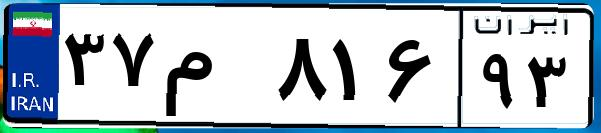1: (330, 28, 385, 110)
3: (57, 26, 110, 100), (525, 38, 570, 115)
6: (385, 28, 445, 110)
7: (110, 28, 158, 98)
8: (270, 28, 330, 110)
9: (475, 38, 525, 113)
م: (158, 20, 270, 120)
